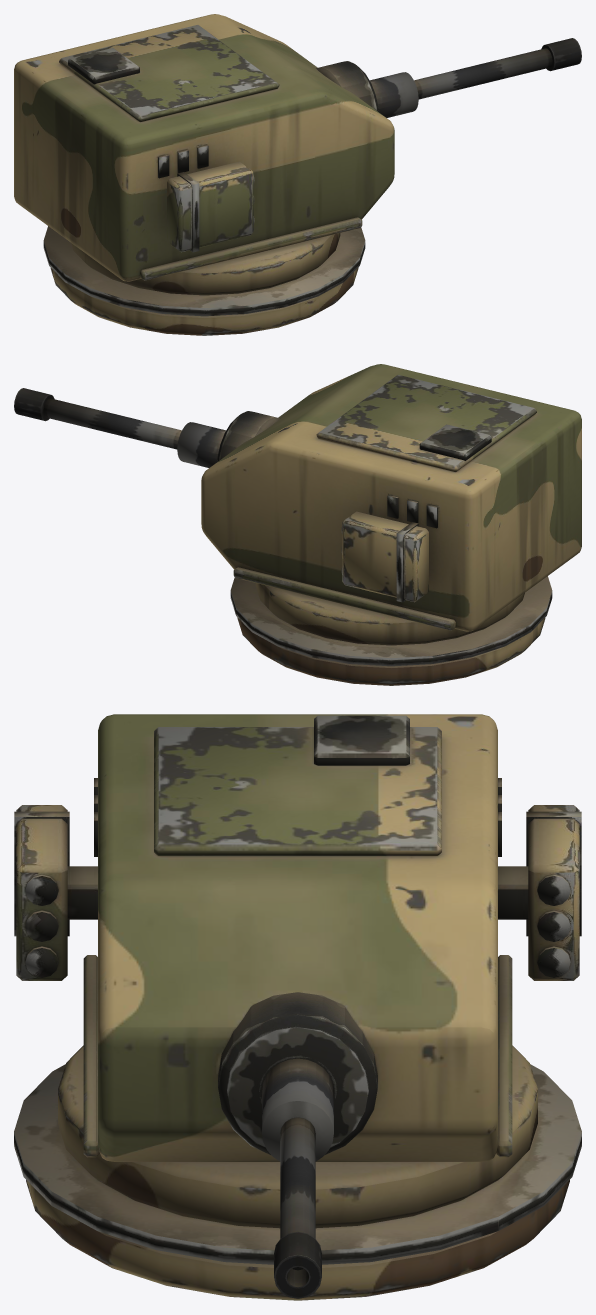
File: turret_grach_t1_reed.glb
The picture shows the model from 3 angles, top to bottom: view 1: azimuth 30°, elevation 25°; view 2: azimuth 150°, elevation 25°; view 3: azimuth 270°, elevation 25°; orthographic projection. The views are drawn at different scales.
Visible parts, largest first — view 1: turret_light_t1, guns, pods; view 2: turret_light_t1, guns, pods; view 3: turret_light_t1, guns, pods.
Boxes of the visible parts, bbox=[...] form: turret_light_t1: bbox=[14, 14, 394, 335]; guns: bbox=[316, 38, 581, 117]; pods: bbox=[167, 161, 254, 252]; turret_light_t1: bbox=[201, 364, 581, 685]; guns: bbox=[14, 388, 279, 467]; pods: bbox=[341, 511, 428, 602]; turret_light_t1: bbox=[14, 714, 581, 1300]; guns: bbox=[218, 992, 377, 1298]; pods: bbox=[14, 805, 581, 980].
Bounding box in the file's own units: 1.14 × 0.4664 × 0.6248.
3 materials, 3 textured.
